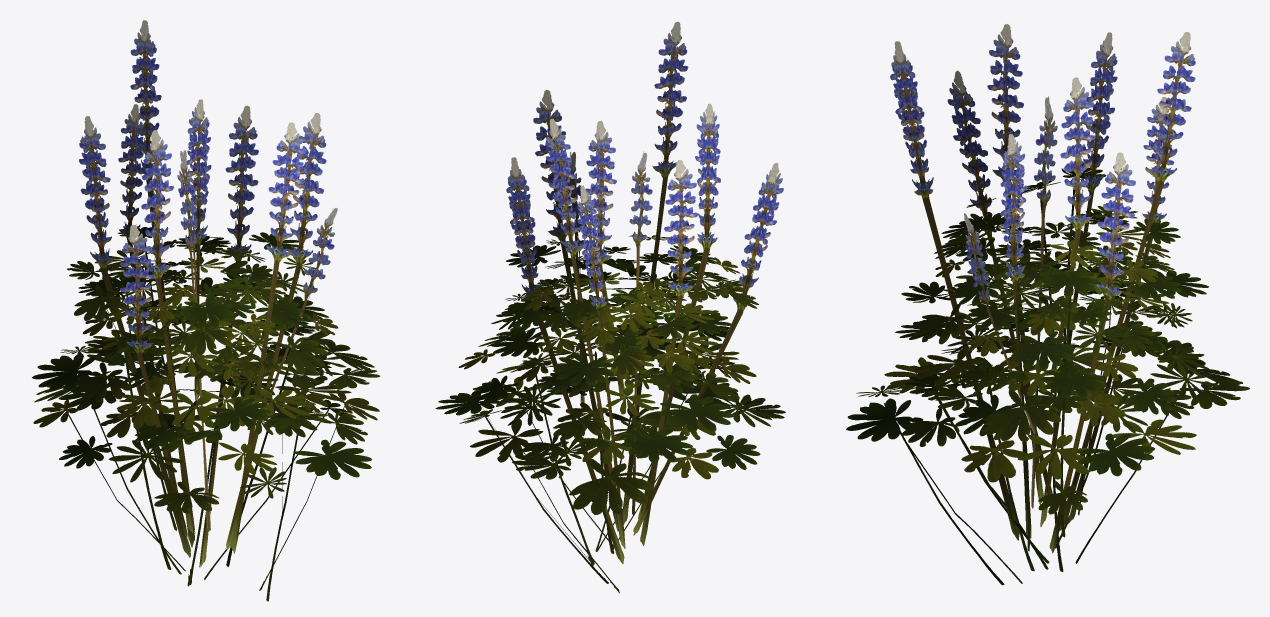
Rendered from arden_forest_lupin_01_foliage.fbx.
3 renders of one model, left to right at view 1: azimuth 30°, elevation 25°; view 2: azimuth 150°, elevation 25°; view 3: azimuth 270°, elevation 25°, orthographic. The views are drawn at different scales.
Visible parts, largest first — view 1: arden_forest_lupin_01_foliage; view 2: arden_forest_lupin_01_foliage; view 3: arden_forest_lupin_01_foliage.
Part boxes in pixels (<box>): arden_forest_lupin_01_foliage: <box>32,20,380,601</box>; arden_forest_lupin_01_foliage: <box>435,21,785,593</box>; arden_forest_lupin_01_foliage: <box>846,24,1249,585</box>.
Size of the model in its own units: 105 by 166 by 115.
